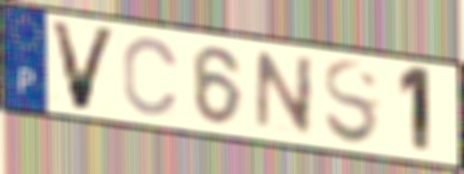1: (394, 64, 434, 161)
6: (189, 43, 247, 127)
C: (121, 34, 182, 119)
N: (252, 49, 317, 139)
S: (321, 58, 382, 150)
V: (47, 17, 121, 113)
